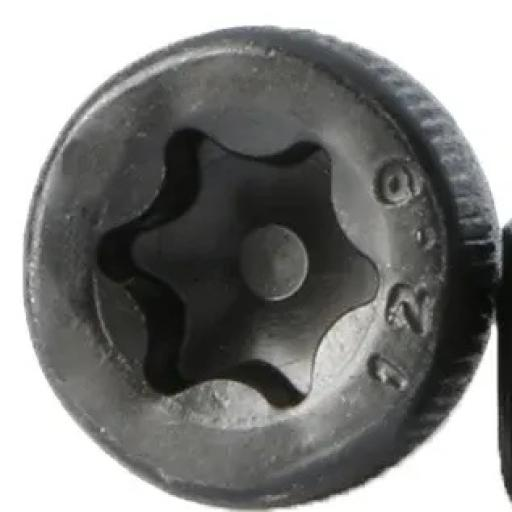Torx: (16, 6, 506, 503)
